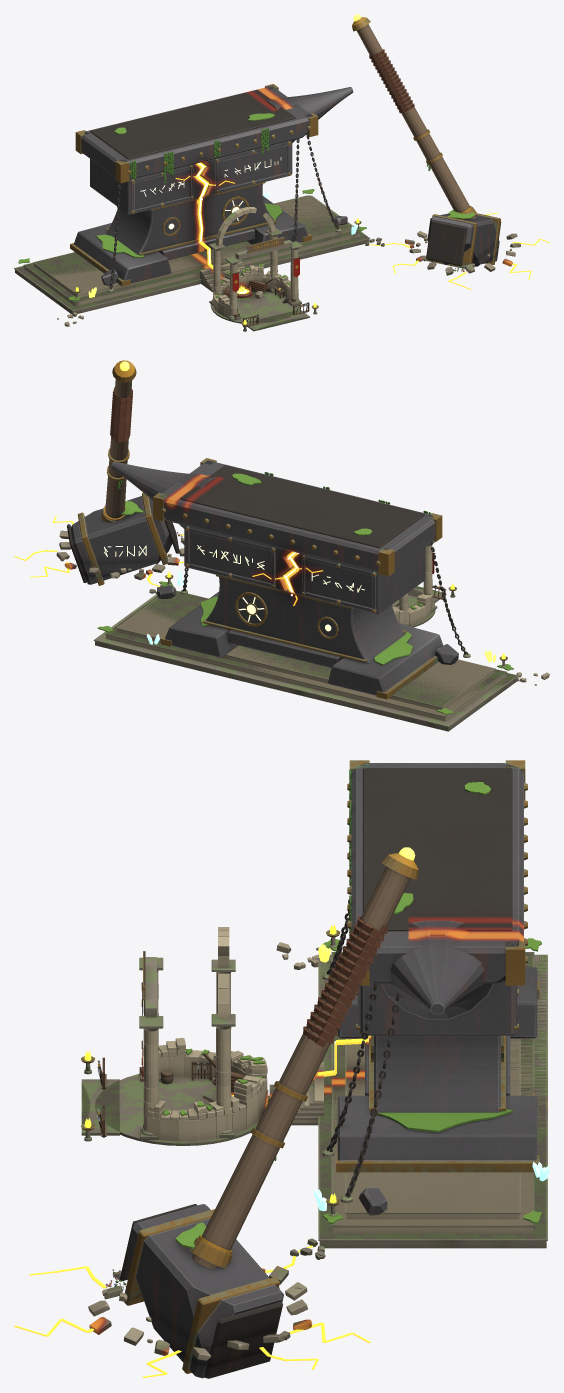
File: LOBBY_SN_04_FORGE_06bf56.fbx
3 views of the same model, one above another, from view 1: azimuth 30°, elevation 25°; view 2: azimuth 150°, elevation 25°; view 3: azimuth 270°, elevation 25° (orthographic). The views are drawn at different scales.
Parts seen in each view (by area): view 1: WB_Frg_Anvil__SNB_Anvil_7__SNB_Anvil_7, WB_Frg_Anvil__SNB_Anvil_1__SNB_Anvil_1, WB_Frg_Anvil__SNB_Anvil_8__SNB_Anvil_8, WB_Frg_Hall__SNB_Hall__SNB_Hall, WB_Frg_Anvil__SNB_Anvil_2__SNB_Anvil_2, WB_Frg_Hammer__SNB_Hammer_2__SNB_Hammer_2, WB_Frg_Anvil__SNB_Anvil_6__SNB_Anvil_6, WB_Frg_Anvil__SNB_Anvil_3__SNB_Anvil_3, WB_Frg_Hammer__SNB_Hammer_1__SNB_Hammer_1, WB_Frg_Anvil__SNB_Anvil_4__SNB_Anvil_4, WB_Frg_Anvil__SNB_Anvil_5__SNB_Anvil_5, WB_Frg_Anvil__SN_Lava__SN_Lava; view 2: WB_Frg_Anvil__SNB_Anvil_7__SNB_Anvil_7, WB_Frg_Anvil__SNB_Anvil_1__SNB_Anvil_1, WB_Frg_Anvil__SNB_Anvil_8__SNB_Anvil_8, WB_Frg_Anvil__SNB_Anvil_3__SNB_Anvil_3, WB_Frg_Anvil__SNB_Anvil_2__SNB_Anvil_2, WB_Frg_Anvil__SNB_Anvil_6__SNB_Anvil_6, WB_Frg_Hammer__SNB_Hammer_1__SNB_Hammer_1, WB_Frg_Hammer__SNB_Hammer_2__SNB_Hammer_2, WB_Frg_Hall__SNB_Hall__SNB_Hall, WB_Frg_Anvil__SNB_Anvil_5__SNB_Anvil_5, WB_Frg_Anvil__SNB_Anvil_4__SNB_Anvil_4, WB_Frg_Anvil__SN_Rune__SN_Rune; view 3: WB_Frg_Anvil__SNB_Anvil_8__SNB_Anvil_8, WB_Frg_Anvil__SNB_Anvil_7__SNB_Anvil_7, WB_Frg_Hammer__SNB_Hammer_1__SNB_Hammer_1, WB_Frg_Hall__SNB_Hall__SNB_Hall, WB_Frg_Hammer__SNB_Hammer_2__SNB_Hammer_2, WB_Frg_Anvil__SNB_Anvil_3__SNB_Anvil_3, WB_Frg_Anvil__SNB_Anvil_2__SNB_Anvil_2, WB_Frg_Anvil__SNB_Anvil_4__SNB_Anvil_4, WB_Frg_Anvil__SNB_Anvil_6__SNB_Anvil_6, WB_Frg_Anvil__SNB_Anvil_1__SNB_Anvil_1, WB_Frg_Anvil__SNB_Anvil_5__SNB_Anvil_5, WB_Frg_Hammer__SN_Lava__SN_Lava.
Part boxes in pixels (<box>): WB_Frg_Anvil__SNB_Anvil_7__SNB_Anvil_7: <box>81,86,313,255</box>; WB_Frg_Anvil__SNB_Anvil_1__SNB_Anvil_1: <box>18,127,203,326</box>; WB_Frg_Anvil__SNB_Anvil_8__SNB_Anvil_8: <box>200,84,384,246</box>; WB_Frg_Hall__SNB_Hall__SNB_Hall: <box>209,207,318,331</box>; WB_Frg_Anvil__SNB_Anvil_2__SNB_Anvil_2: <box>106,151,275,254</box>; WB_Frg_Hammer__SNB_Hammer_2__SNB_Hammer_2: <box>352,17,476,266</box>; WB_Frg_Anvil__SNB_Anvil_6__SNB_Anvil_6: <box>24,195,359,306</box>; WB_Frg_Anvil__SNB_Anvil_3__SNB_Anvil_3: <box>15,196,369,314</box>; WB_Frg_Hammer__SNB_Hammer_1__SNB_Hammer_1: <box>405,213,520,275</box>; WB_Frg_Anvil__SNB_Anvil_4__SNB_Anvil_4: <box>14,195,370,311</box>; WB_Frg_Anvil__SNB_Anvil_5__SNB_Anvil_5: <box>23,195,360,303</box>; WB_Frg_Anvil__SN_Lava__SN_Lava: <box>175,162,234,268</box>; WB_Frg_Anvil__SNB_Anvil_7__SNB_Anvil_7: <box>159,460,435,662</box>; WB_Frg_Anvil__SNB_Anvil_1__SNB_Anvil_1: <box>289,500,549,714</box>; WB_Frg_Anvil__SNB_Anvil_8__SNB_Anvil_8: <box>97,458,325,657</box>; WB_Frg_Anvil__SNB_Anvil_3__SNB_Anvil_3: <box>95,594,517,731</box>; WB_Frg_Anvil__SNB_Anvil_2__SNB_Anvil_2: <box>206,499,405,663</box>; WB_Frg_Anvil__SNB_Anvil_6__SNB_Anvil_6: <box>106,590,505,721</box>; WB_Frg_Hammer__SNB_Hammer_1__SNB_Hammer_1: <box>56,493,184,585</box>; WB_Frg_Hammer__SNB_Hammer_2__SNB_Hammer_2: <box>101,360,179,553</box>; WB_Frg_Hall__SNB_Hall__SNB_Hall: <box>392,541,456,627</box>; WB_Frg_Anvil__SNB_Anvil_5__SNB_Anvil_5: <box>105,595,507,717</box>; WB_Frg_Anvil__SNB_Anvil_4__SNB_Anvil_4: <box>93,594,518,727</box>; WB_Frg_Anvil__SN_Rune__SN_Rune: <box>197,545,364,631</box>; WB_Frg_Anvil__SNB_Anvil_8__SNB_Anvil_8: <box>290,853,541,1259</box>; WB_Frg_Anvil__SNB_Anvil_7__SNB_Anvil_7: <box>349,763,523,1110</box>; WB_Frg_Hammer__SNB_Hammer_1__SNB_Hammer_1: <box>88,1204,312,1378</box>; WB_Frg_Hall__SNB_Hall__SNB_Hall: <box>81,927,269,1145</box>; WB_Frg_Hammer__SNB_Hammer_2__SNB_Hammer_2: <box>120,853,418,1280</box>; WB_Frg_Anvil__SNB_Anvil_3__SNB_Anvil_3: <box>274,955,546,1248</box>; WB_Frg_Anvil__SNB_Anvil_2__SNB_Anvil_2: <box>347,807,527,1115</box>; WB_Frg_Anvil__SNB_Anvil_4__SNB_Anvil_4: <box>318,954,547,1240</box>; WB_Frg_Anvil__SNB_Anvil_6__SNB_Anvil_6: <box>269,953,532,1233</box>; WB_Frg_Anvil__SNB_Anvil_1__SNB_Anvil_1: <box>276,760,541,1038</box>; WB_Frg_Anvil__SNB_Anvil_5__SNB_Anvil_5: <box>331,952,534,1227</box>; WB_Frg_Hammer__SN_Lava__SN_Lava: <box>14,1245,370,1377</box>.
Size of the model in its own units: 224 by 109 by 118.
20 materials, 12 textured.
